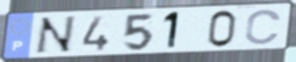0: (206, 9, 239, 49)
1: (159, 10, 182, 51)
4: (81, 14, 112, 53)
5: (120, 12, 157, 52)
C: (243, 8, 284, 46)
N: (32, 15, 78, 56)
